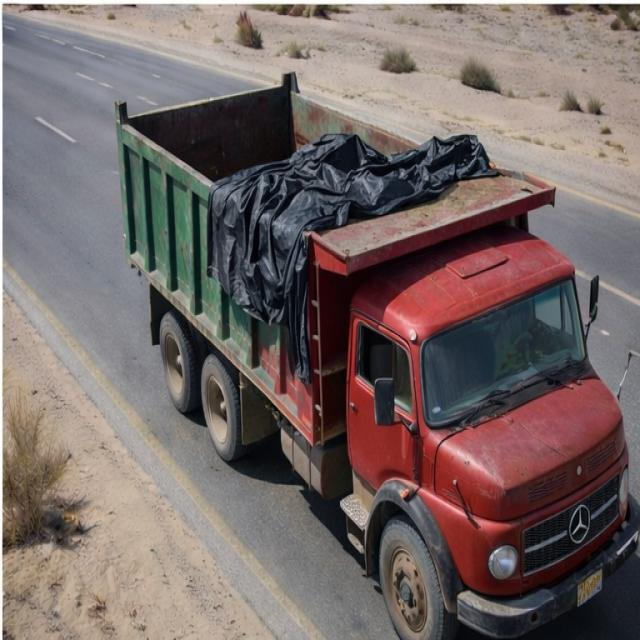trailer: (94, 70, 562, 258)
truck: (76, 61, 638, 630)
